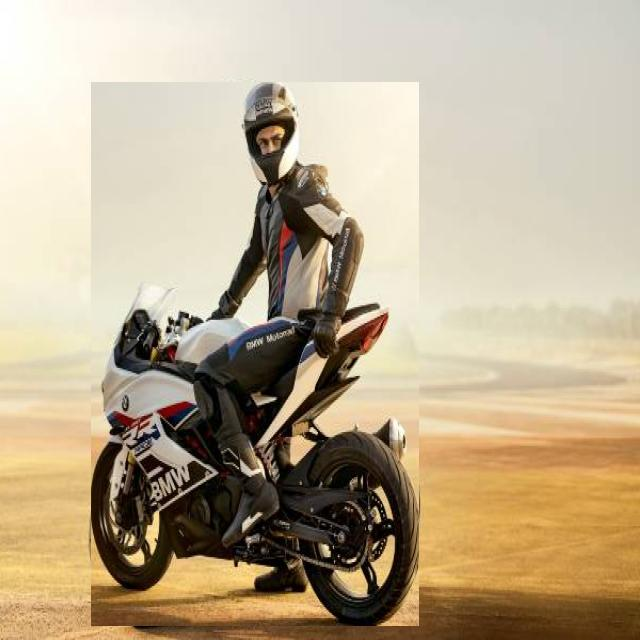motorcycle: (91, 82, 419, 626)
